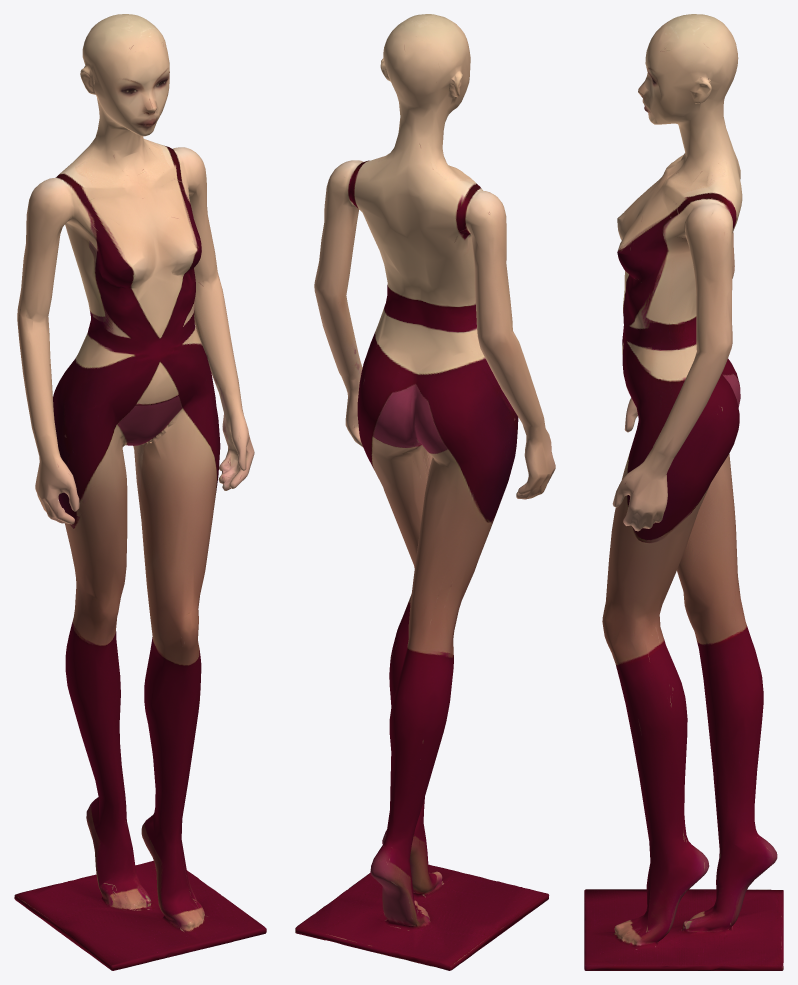
File: model_texture.glb
The picture shows the model from 3 angles, left to right: view 1: azimuth 30°, elevation 25°; view 2: azimuth 150°, elevation 25°; view 3: azimuth 270°, elevation 25°; orthographic projection.
Parts seen in each view (by area): view 1: Mesh_0; view 2: Mesh_0; view 3: Mesh_0.
Part boxes in pixels (x1=…): Mesh_0: x1=14, y1=14, x2=266, y2=970; Mesh_0: x1=295, y1=14, x2=555, y2=970; Mesh_0: x1=584, y1=14, x2=783, y2=970.
Size of the model in its own units: 0.4558 by 1.91 by 0.38.
1 material, 1 textured.
